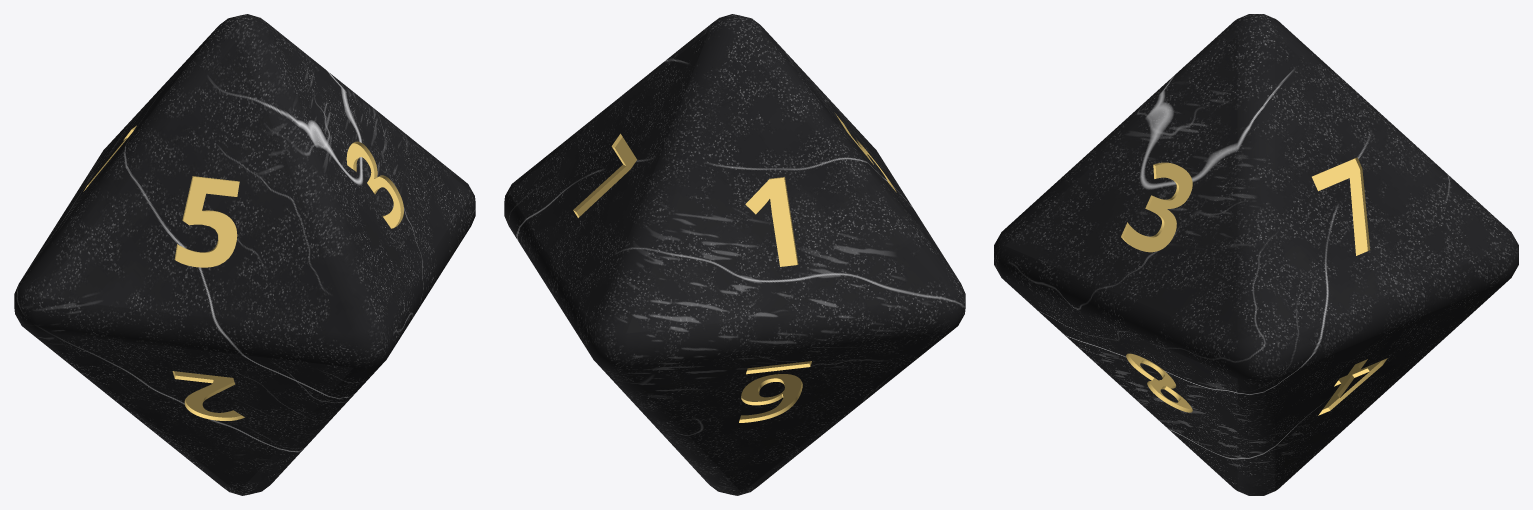
3 renders of one model, left to right at view 1: azimuth 30°, elevation 25°; view 2: azimuth 150°, elevation 25°; view 3: azimuth 270°, elevation 25°, orthographic.
Parts seen in each view (by area): view 1: body.001; view 2: body.001; view 3: body.001.
Part boxes in pixels (box(x1,y1,x2,y2)): body.001: box(14, 14, 475, 495); body.001: box(504, 14, 965, 495); body.001: box(994, 14, 1518, 495).
Size of the model in its own units: 0.9066 by 0.9066 by 0.9066.
Materials: 2 (1 with a texture image).
